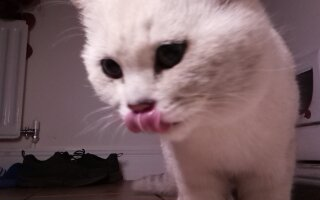bad: (72, 5, 301, 197)
